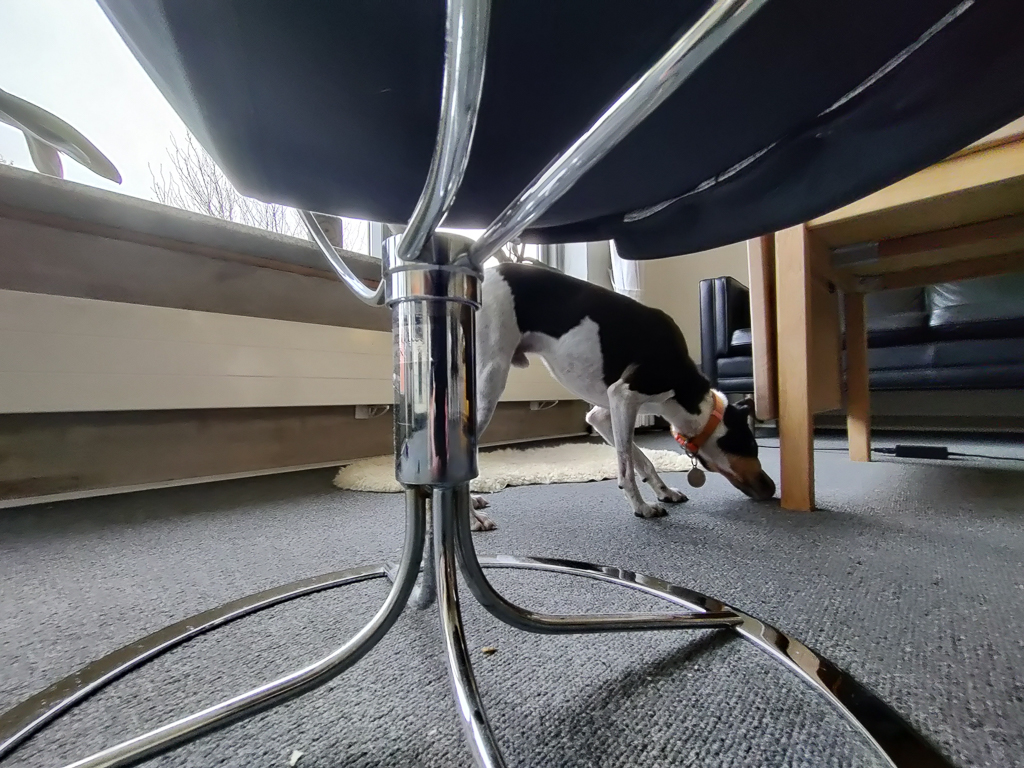Dog: (383, 218, 798, 551)
